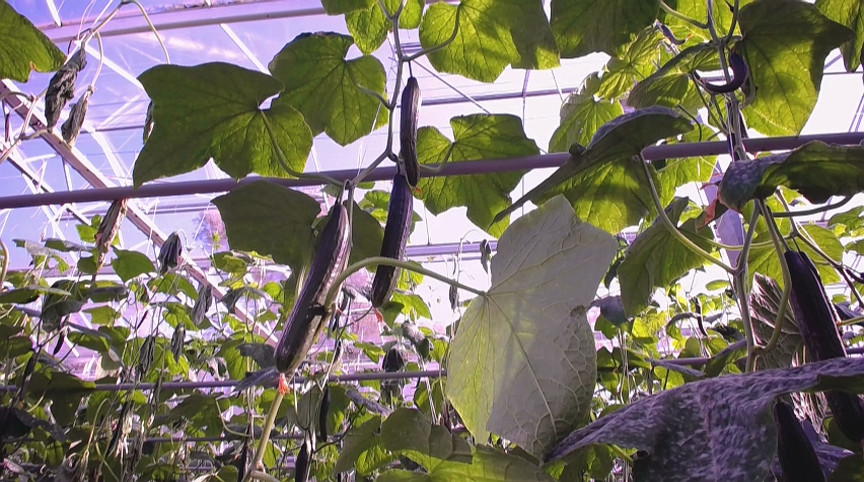cucumber: (782, 249, 864, 437), (274, 204, 351, 377), (370, 175, 413, 309), (773, 404, 826, 482), (400, 76, 422, 187)
